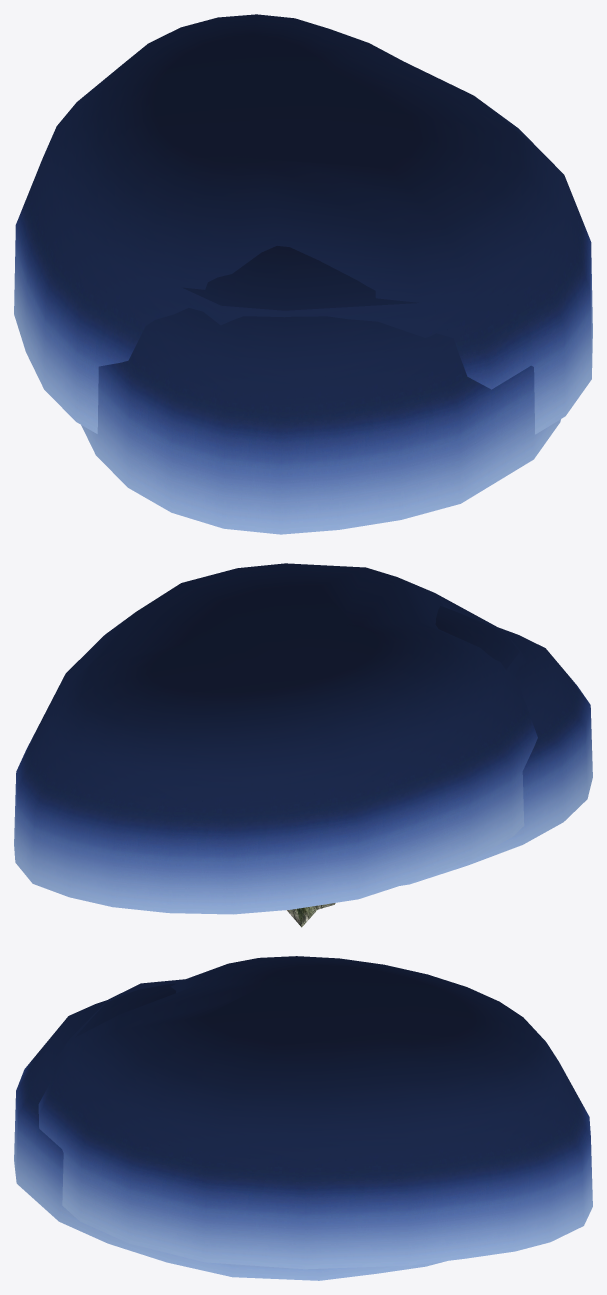
Rendered from stage-mach.glb.
3 renders of one model, top to bottom at view 1: azimuth 30°, elevation 25°; view 2: azimuth 150°, elevation 25°; view 3: azimuth 270°, elevation 25°, orthographic. The views are drawn at different scales.
Parts seen in each view (by area): view 1: part 10 chunk 1,-8, part 10 chunk 1,-6; view 2: part 10 chunk 1,-8, part 10 chunk 1,-6; view 3: part 10 chunk 1,-8, part 10 chunk 1,-6.
Part boxes in pixels (x1,y1,x2,y2): part 10 chunk 1,-8: (14,14,592,434); part 10 chunk 1,-6: (81,246,560,534); part 10 chunk 1,-8: (14,563,537,914); part 10 chunk 1,-6: (400,606,592,885); part 10 chunk 1,-8: (38,956,592,1269); part 10 chunk 1,-6: (14,983,446,1280).
Bounding box in the file's own units: 4126 × 2256 × 5264.
Materials: 64 (62 with a texture image).
